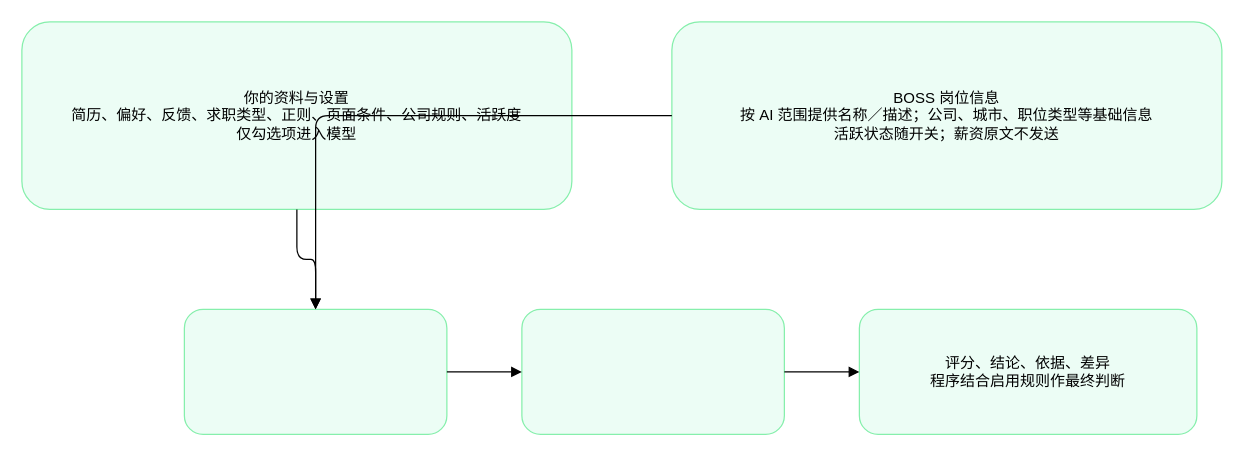
This 1244x456 diagram has some shape labels left out. Here are the shapes that lost their labels. From the top down, the centre of each, then its label:
(315,371): 组合已启用输入 匹配提示词 + 固定审核规则
(652,371): AI 理解与匹配 职责、技能、资格与偏好
